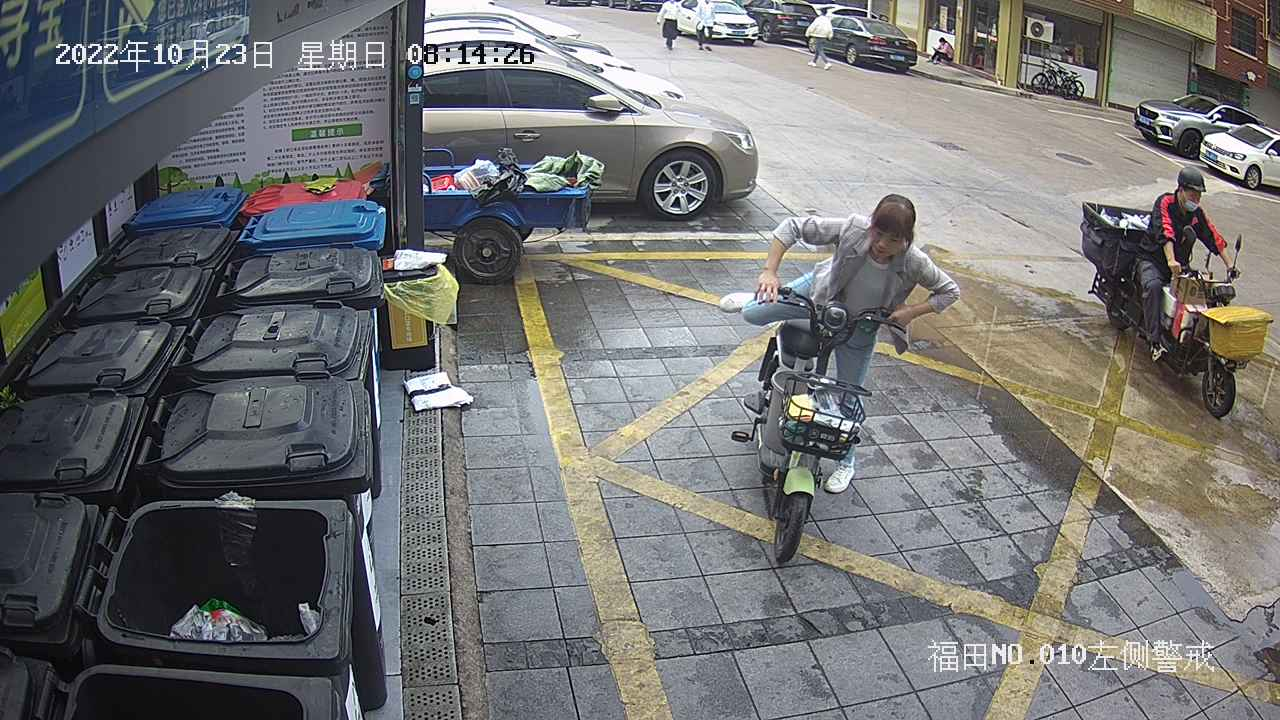person: (715, 191, 965, 498)
worker: (1130, 162, 1242, 367)
zhizhipin: (400, 367, 478, 414)
